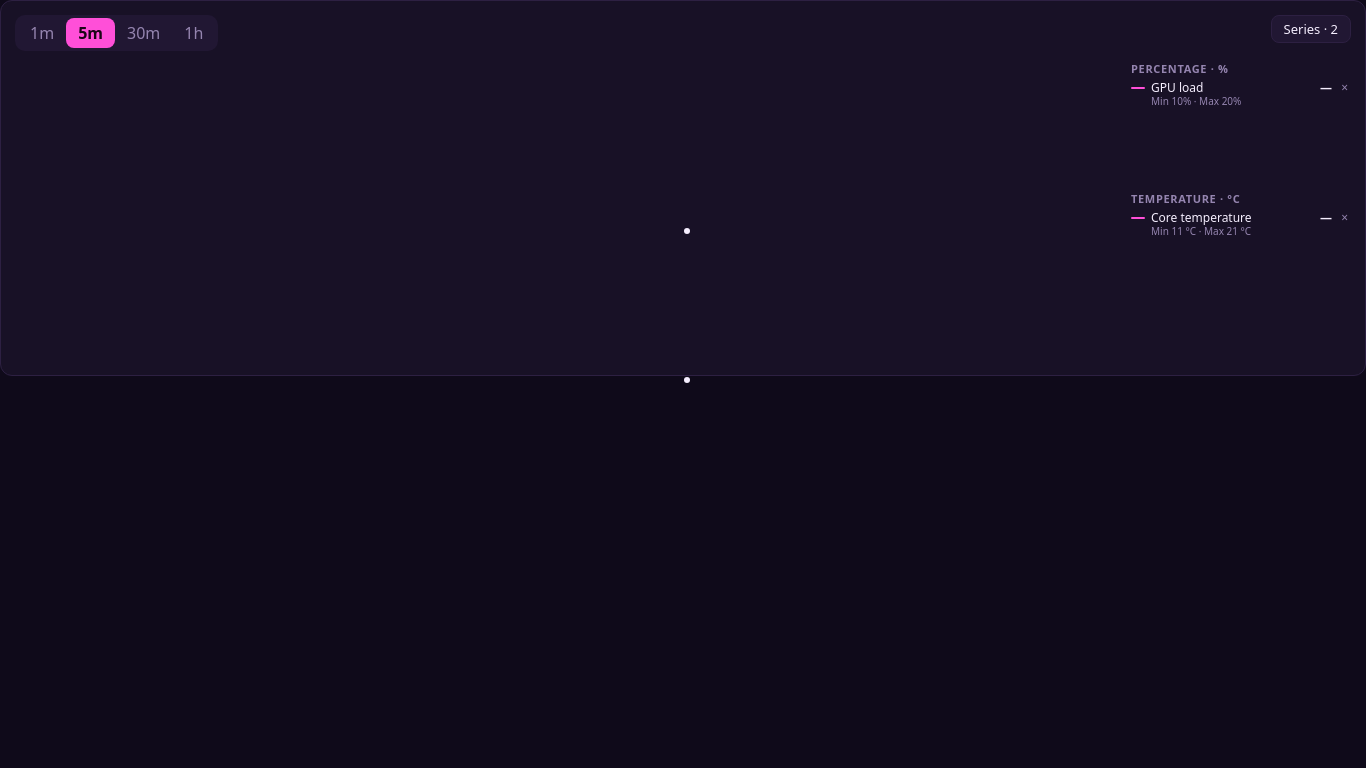
Scenario: a_third_unit_adds_a_third_strip
This screenshot has width=1366, height=768.
Click the button "Series · 2".
click(1311, 29)  # box [1271,15,1351,43]
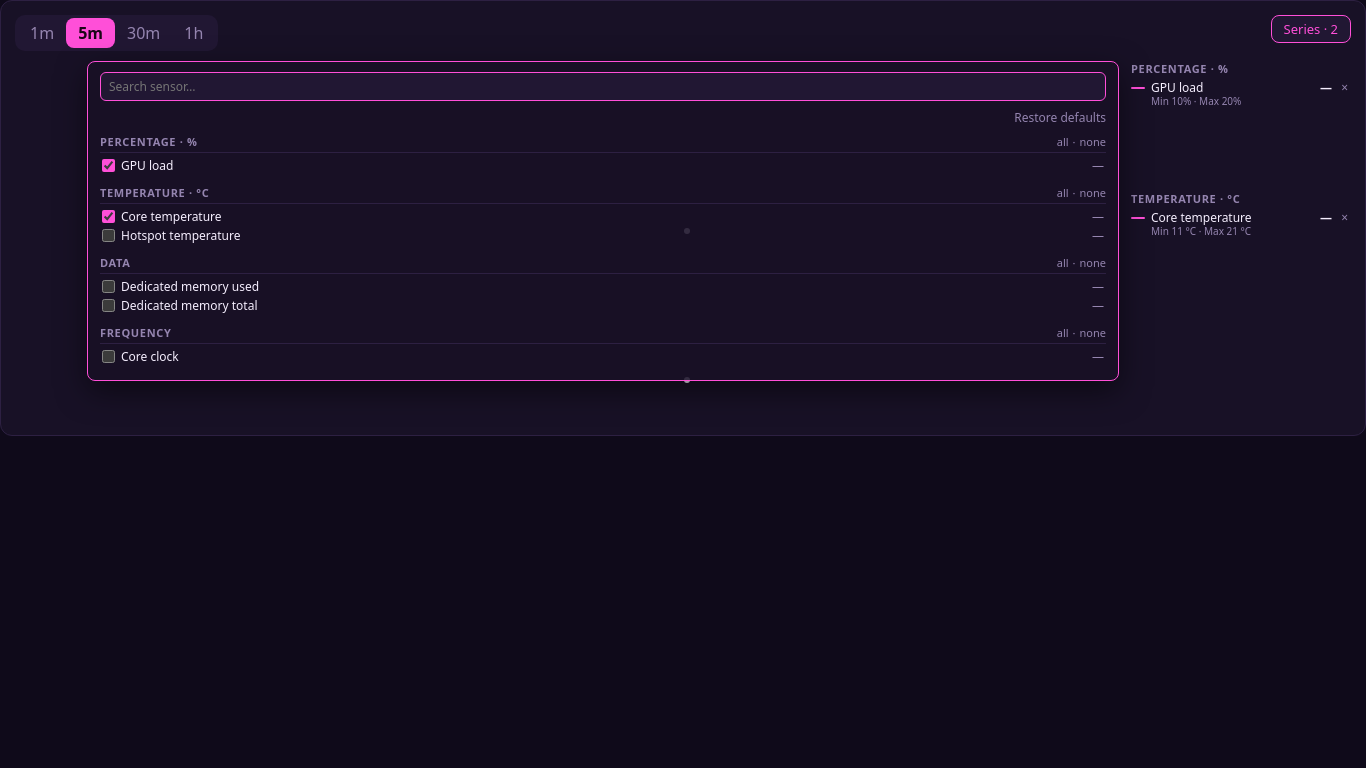
expect the checkbox labelled "Dedicated memory used" is enabled: met
Click the checkbox labelled "Dedicated memory used".
click(108, 286)  # box [102,280,115,293]
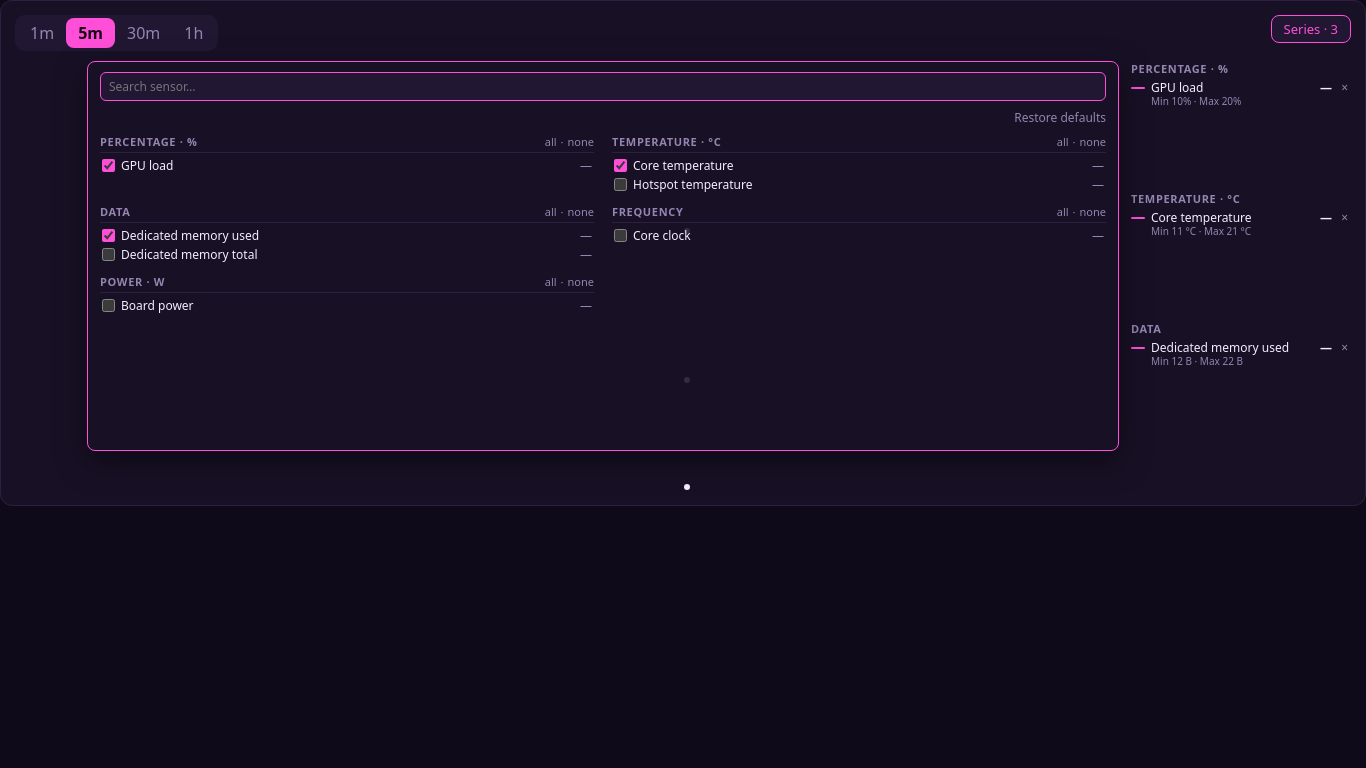
expect the checkbox labelled "Dedicated memory used" is checked: met, box [102,229,115,242]
expect the number of elements with class "strip" is 3: met, box [15,61,1351,191]; [15,191,1351,321]; [15,321,1351,491]
